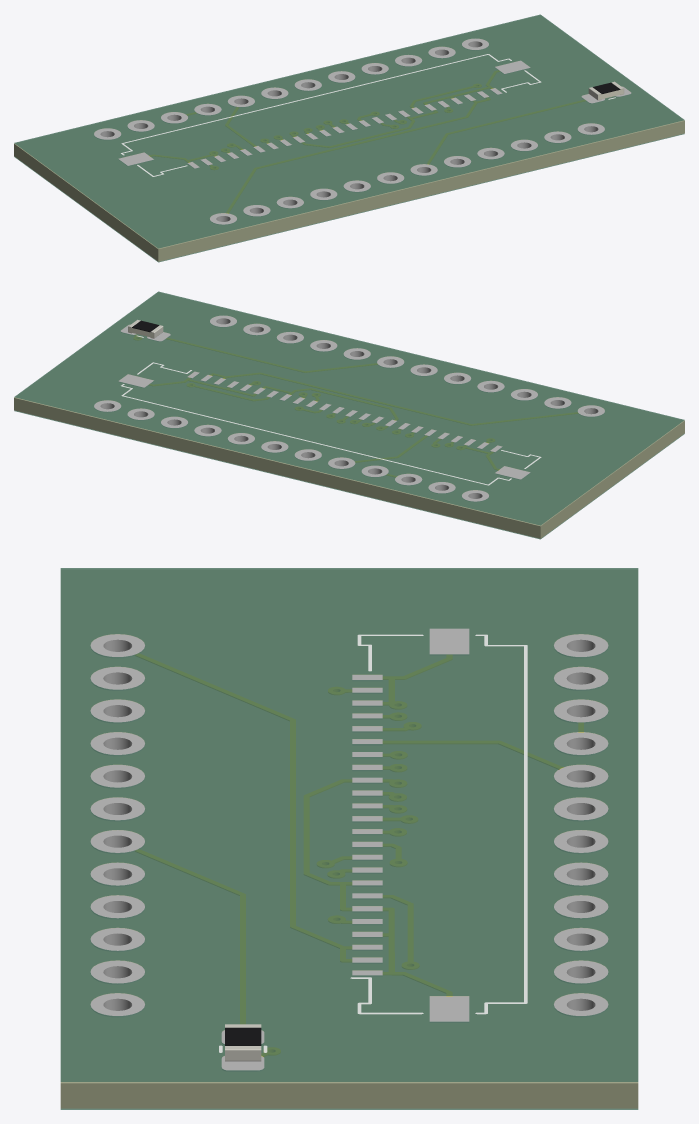
Rendered from YAKB-interposer-B1.glb.
3 views of the same model, one above another, from view 1: azimuth 30°, elevation 25°; view 2: azimuth 150°, elevation 25°; view 3: azimuth 270°, elevation 25° (orthographic). The views are drawn at different scales.
Parts seen in each view (by area): view 1: =>[0:1:1:10], =>[0:1:1:8], =>[0:1:1:5], =>[0:1:1:4], =>[0:1:1:9], =>[0:1:1:7], =>[0:1:1:3]; view 2: =>[0:1:1:10], =>[0:1:1:8], =>[0:1:1:5], =>[0:1:1:4], =>[0:1:1:9], =>[0:1:1:7], =>[0:1:1:3]; view 3: =>[0:1:1:8], =>[0:1:1:10], =>[0:1:1:5], =>[0:1:1:4], =>[0:1:1:7], =>[0:1:1:3], =>[0:1:1:9].
Part boxes in pixels (<box>): =>[0:1:1:10]: <box>14,16,684,261</box>; =>[0:1:1:8]: <box>14,14,684,248</box>; =>[0:1:1:5]: <box>94,38,631,224</box>; =>[0:1:1:4]: <box>149,71,584,213</box>; =>[0:1:1:9]: <box>14,133,684,262</box>; =>[0:1:1:7]: <box>121,54,615,176</box>; =>[0:1:1:3]: <box>588,81,624,100</box>; =>[0:1:1:10]: <box>14,293,684,538</box>; =>[0:1:1:8]: <box>14,291,684,525</box>; =>[0:1:1:5]: <box>94,315,604,501</box>; =>[0:1:1:4]: <box>134,335,577,476</box>; =>[0:1:1:9]: <box>14,410,684,539</box>; =>[0:1:1:7]: <box>121,335,541,485</box>; =>[0:1:1:3]: <box>128,319,163,338</box>; =>[0:1:1:8]: <box>60,568,638,1081</box>; =>[0:1:1:10]: <box>60,570,638,1108</box>; =>[0:1:1:5]: <box>90,628,608,1071</box>; =>[0:1:1:4]: <box>135,654,583,1056</box>; =>[0:1:1:7]: <box>219,634,527,1052</box>; =>[0:1:1:3]: <box>225,1024,261,1061</box>; =>[0:1:1:9]: <box>60,1108,638,1109</box>.
Size of the model in its own units: 0.04 by 0.00149 by 0.019.
